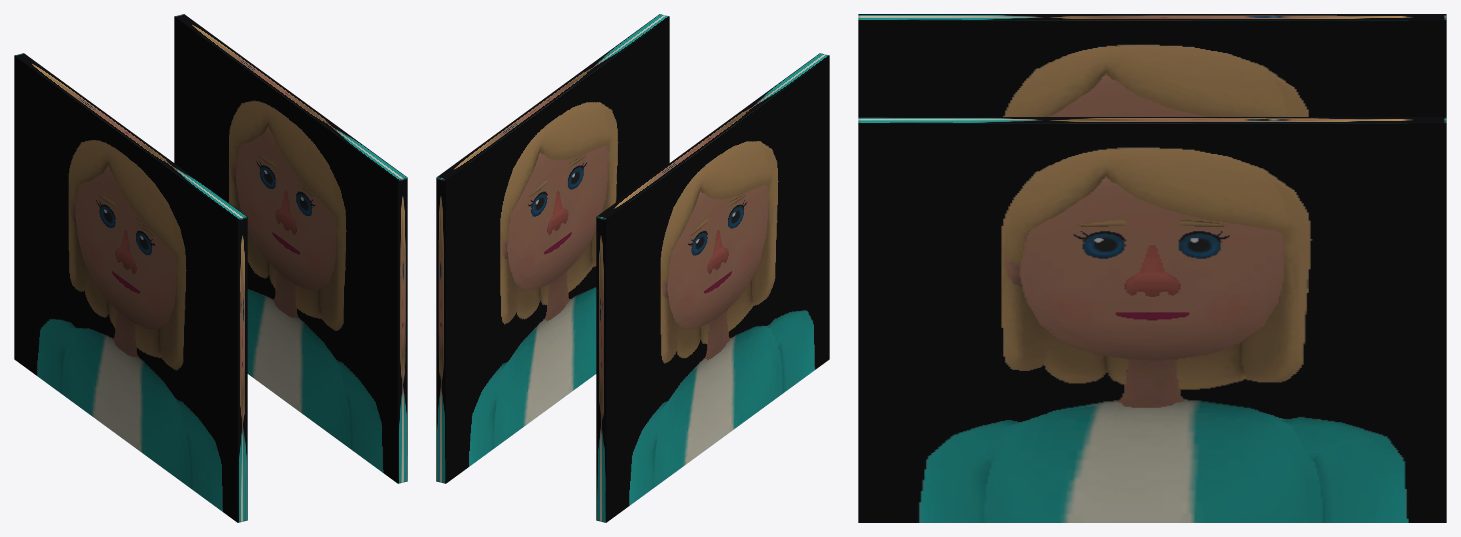
File: eight.obj
The picture shows the model from 3 angles, left to right: view 1: azimuth 30°, elevation 25°; view 2: azimuth 150°, elevation 25°; view 3: azimuth 270°, elevation 25°; orthographic projection. The views are drawn at different scales.
Bounding box in the file's own units: 21.22 × 36.23 × 48.34.
1 material, 1 textured.
